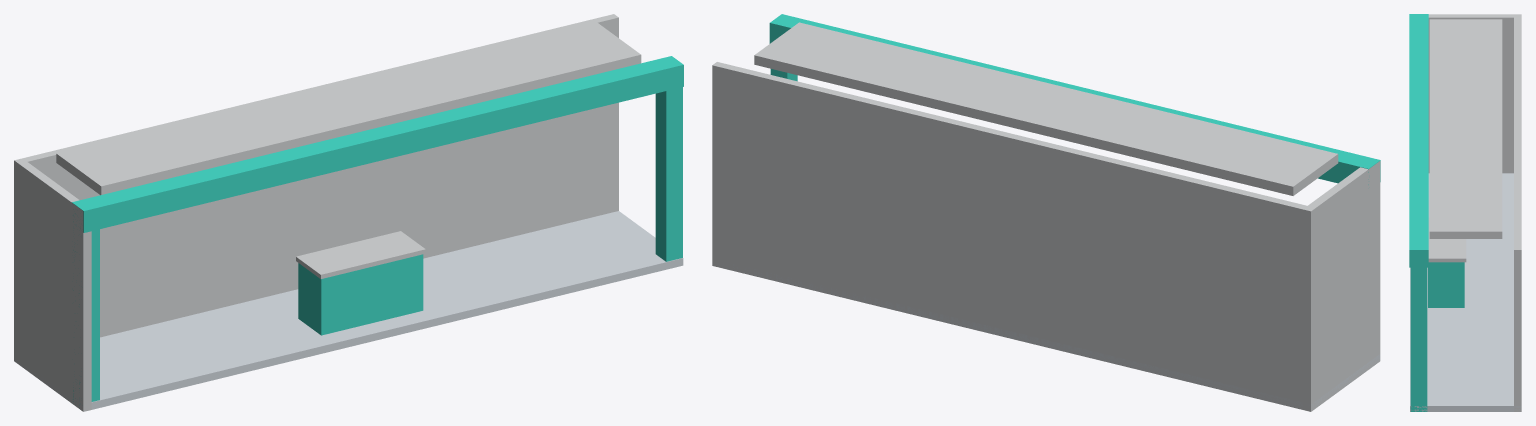
3 views of the same model, side by side, from view 1: azimuth 30°, elevation 25°; view 2: azimuth 150°, elevation 25°; view 3: azimuth 270°, elevation 25° (orthographic). The views are drawn at different scales.
Parts seen in each view (by area): view 1: Exhibition Booth Concept; view 2: Exhibition Booth Concept; view 3: Exhibition Booth Concept.
Part boxes in pixels (box(x1,y1,x2,y2)): Exhibition Booth Concept: box(14, 14, 683, 411); Exhibition Booth Concept: box(712, 14, 1380, 411); Exhibition Booth Concept: box(1409, 14, 1521, 411).
Size of the model in its own units: 10 by 3.34 by 2.01.
